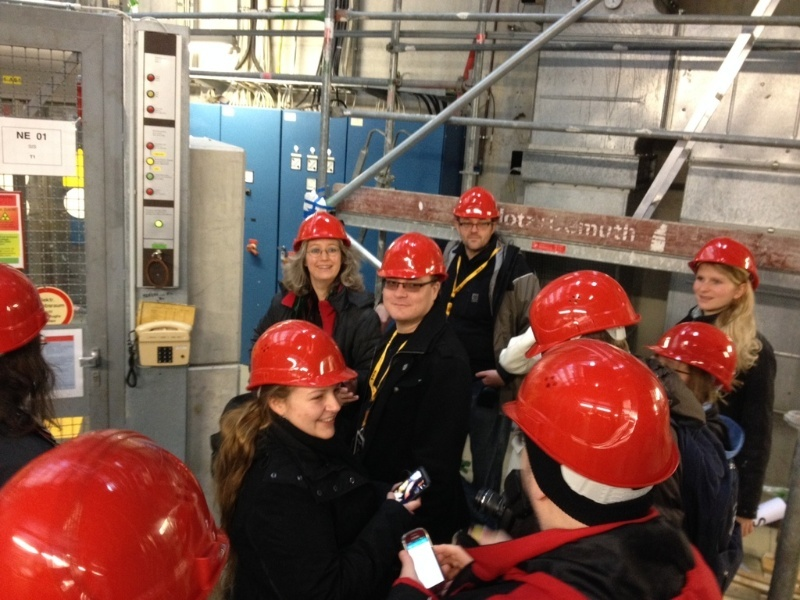baret: (505, 339, 683, 483), (528, 270, 640, 346), (247, 318, 359, 392), (650, 321, 738, 395), (689, 237, 762, 295), (378, 233, 449, 289), (290, 213, 356, 250), (454, 189, 504, 223)
